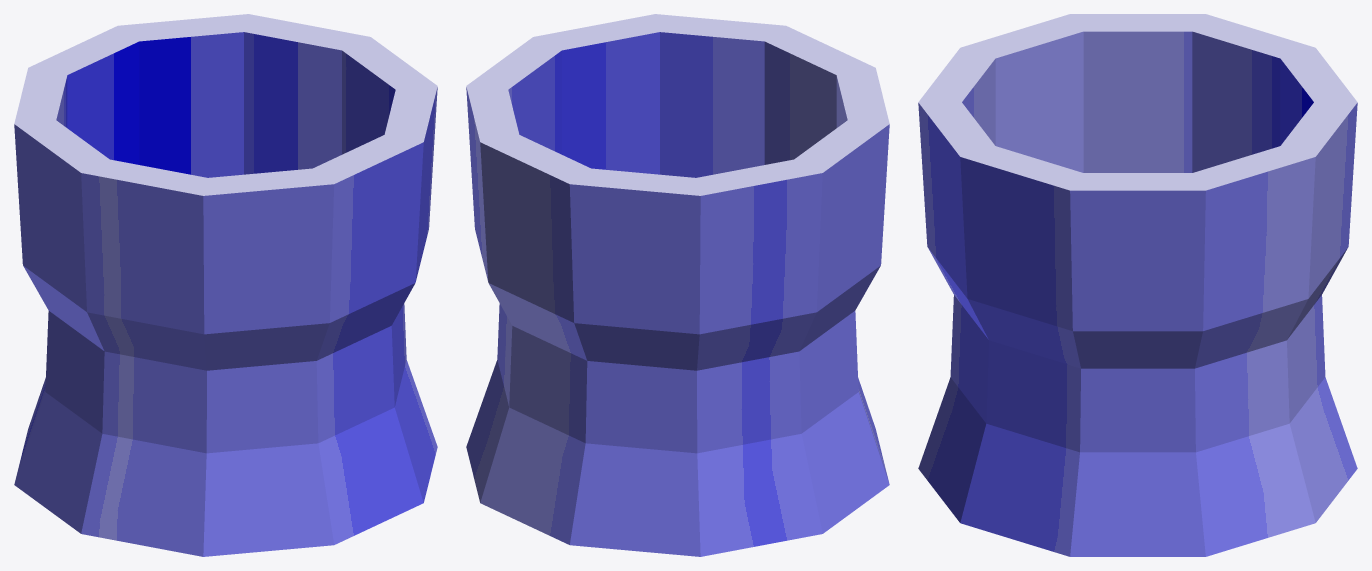
File: cup_628x04.gltf
The picture shows the model from 3 angles, left to right: view 1: azimuth 30°, elevation 25°; view 2: azimuth 150°, elevation 25°; view 3: azimuth 270°, elevation 25°; orthographic projection.
Visible parts, largest first — view 1: cup_628x04; view 2: cup_628x04; view 3: cup_628x04.
Boxes of the visible parts, x1=… form: cup_628x04: x1=14, y1=14, x2=437, y2=556; cup_628x04: x1=466, y1=14, x2=889, y2=556; cup_628x04: x1=918, y1=14, x2=1357, y2=556.
Bounding box in the file's own units: 0.4755 × 0.46 × 0.5.
Materials: 1 (1 with a texture image).
